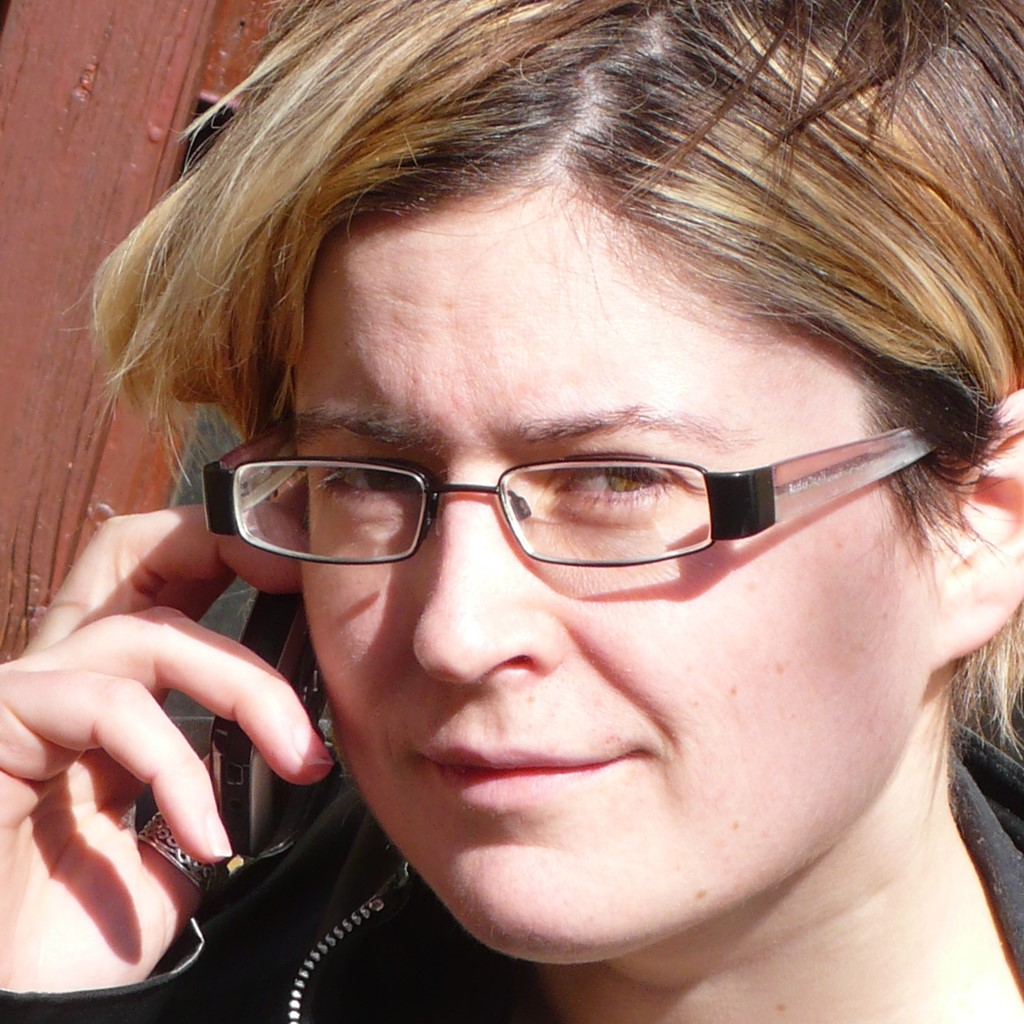sin_mascara: (276, 108, 946, 975)
